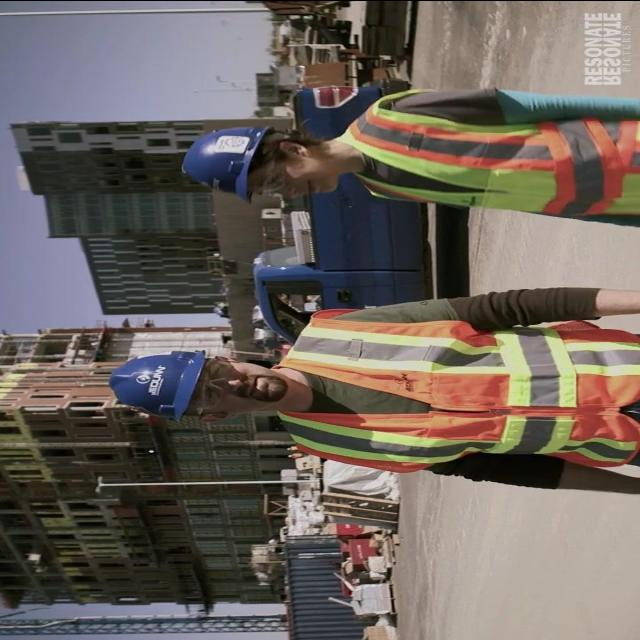helmet: (98, 344, 210, 431), (166, 121, 274, 209)
jacket: (272, 290, 640, 484), (332, 79, 640, 227)
